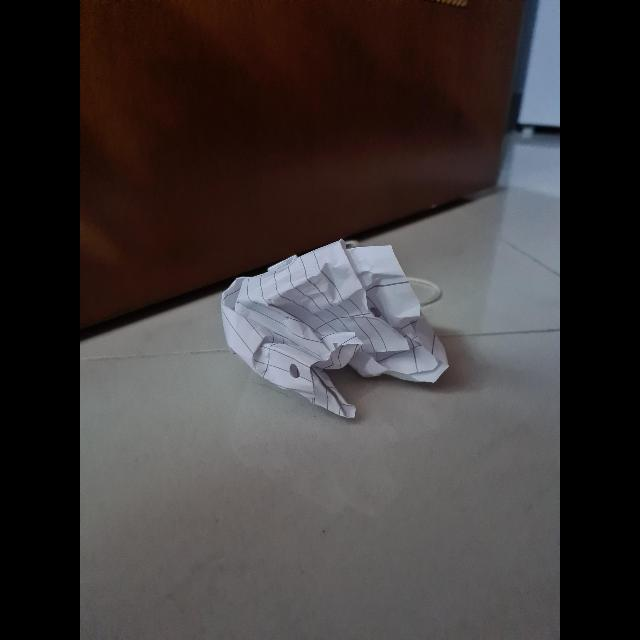scrap_paper: (219, 237, 449, 419)
